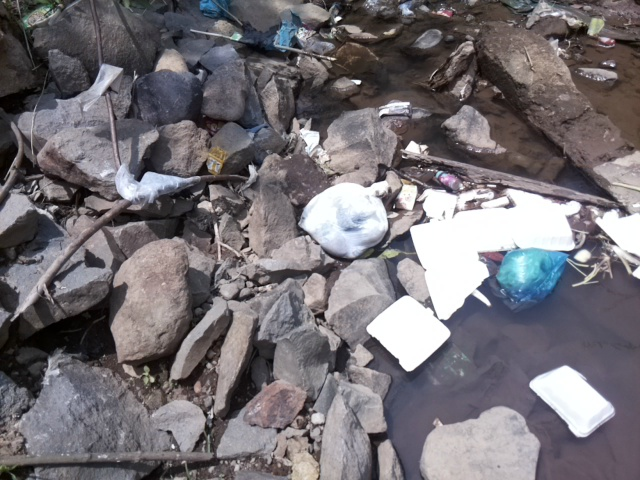Sampah_Botol_Plastik: (430, 169, 461, 191)
Sampah_Plastik: (293, 182, 391, 264), (491, 249, 570, 315), (108, 167, 200, 206), (231, 25, 298, 49)
Sampah_Styrofoam: (406, 193, 500, 326), (397, 188, 582, 250), (361, 295, 455, 378), (527, 360, 617, 443), (597, 198, 640, 277)
